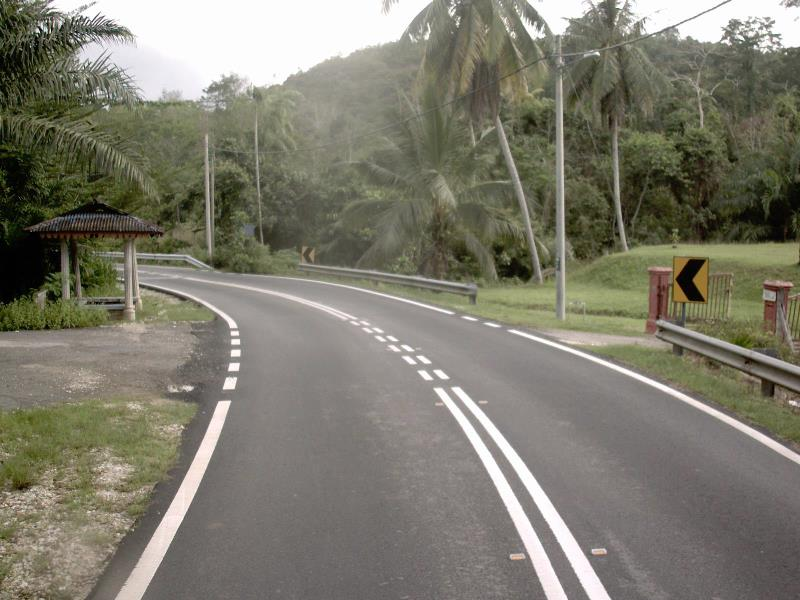traffic_sign: (665, 248, 717, 313)
